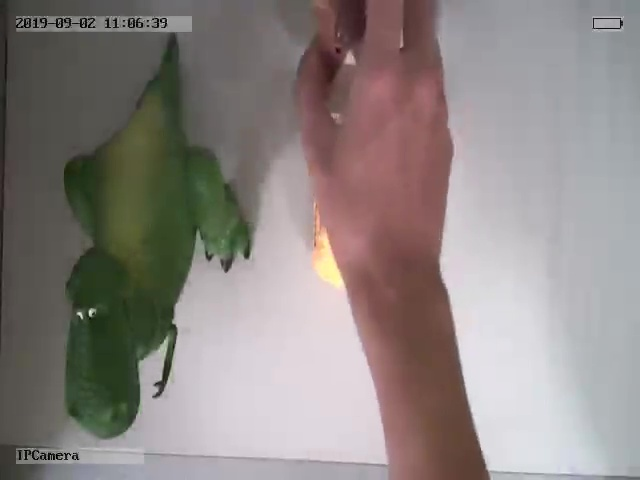rex: (61, 44, 250, 437)
